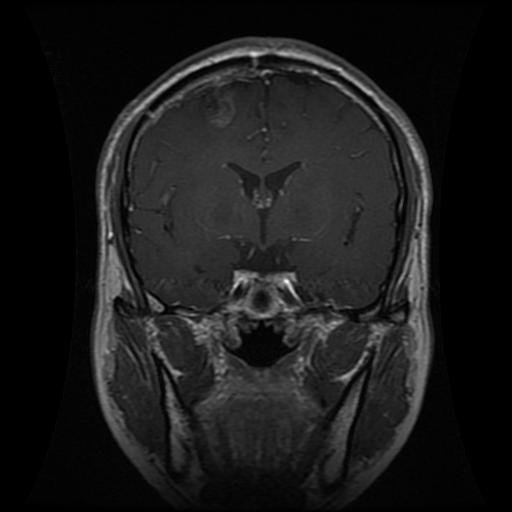Gliomia_tumour: (197, 80, 239, 132)
